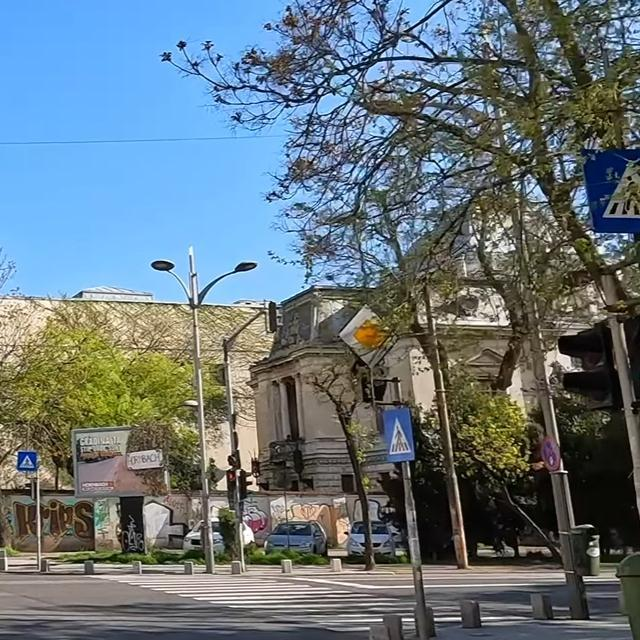forb_waiting: (539, 435, 563, 471)
info_crosswalk: (578, 146, 640, 232), (384, 406, 416, 461), (17, 450, 37, 470)
